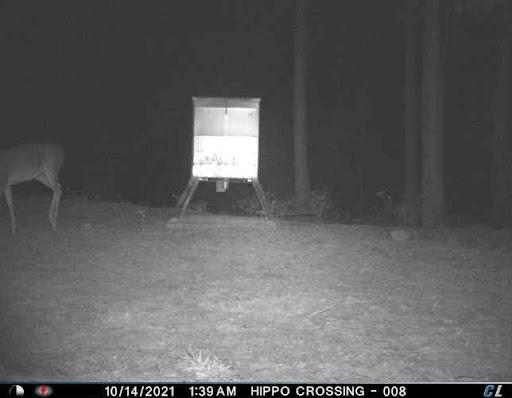Deer: (0, 136, 74, 247)
